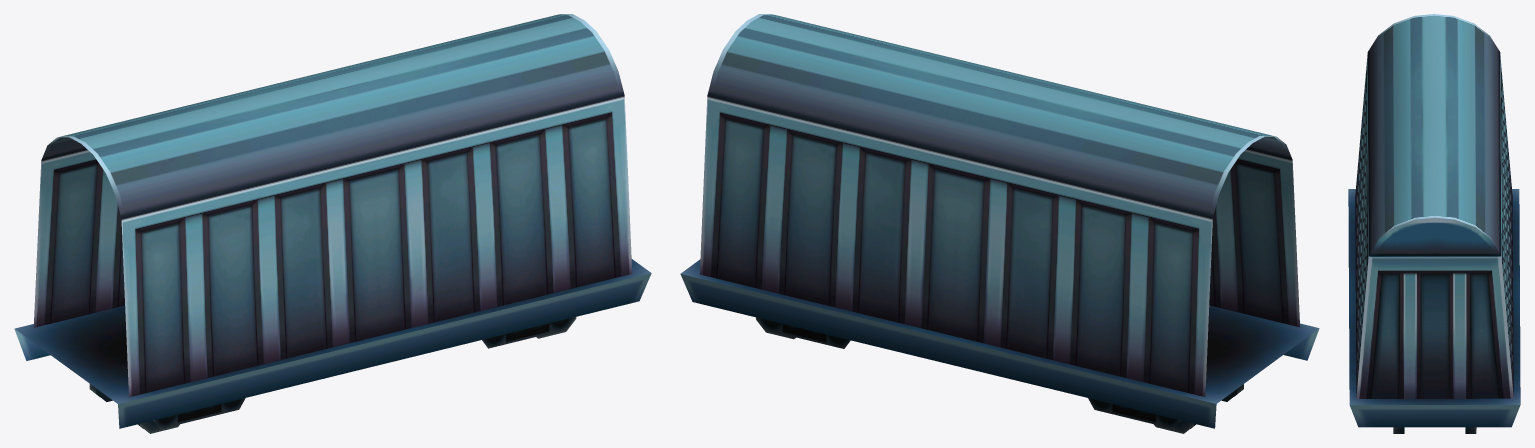
File: train2.glb
The picture shows the model from 3 angles, left to right: view 1: azimuth 30°, elevation 25°; view 2: azimuth 150°, elevation 25°; view 3: azimuth 270°, elevation 25°; orthographic projection. The views are drawn at different scales.
Parts seen in each view (by area): view 1: Object_17; view 2: Object_17; view 3: Object_17.
Part boxes in pixels (bbox=[...]): Object_17: bbox=[14, 14, 651, 433]; Object_17: bbox=[680, 14, 1319, 433]; Object_17: bbox=[1348, 14, 1520, 433].
Size of the model in its own units: 12.88 by 6.5 by 4.33.
Materials: 1 (1 with a texture image).
